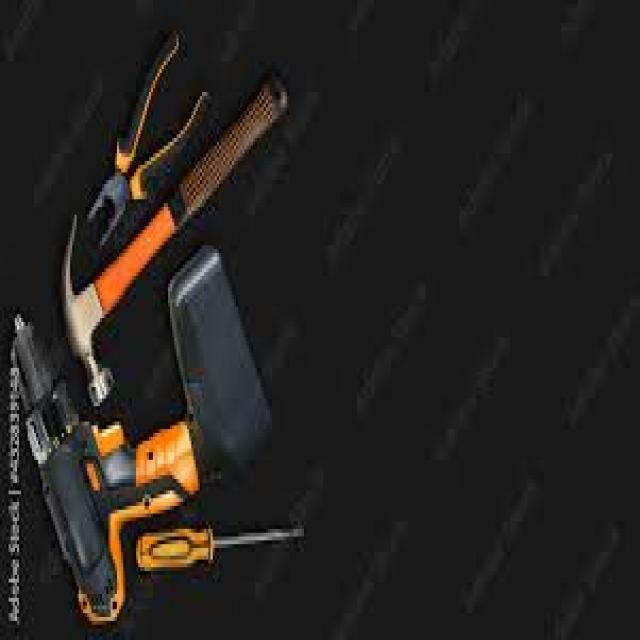hammer: (60, 69, 292, 410)
screwdriver: (132, 509, 319, 578)
